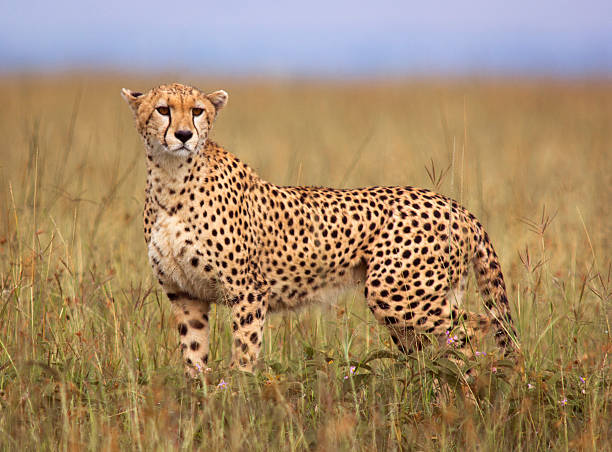cheetah: (112, 78, 233, 166)
